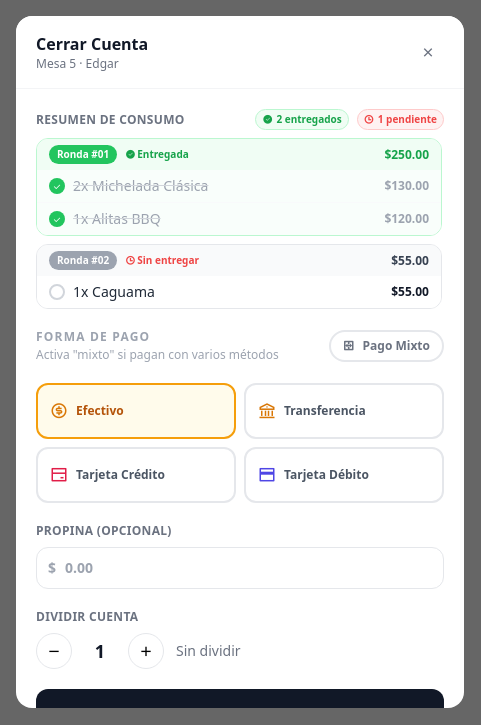
Scenario: CloseAccountModal — Payment Calculations › shows transfer data when transferencia selected
This screenshot has width=481, height=725.
Click the button "Transferencia": (344,411) [244,383,444,439]
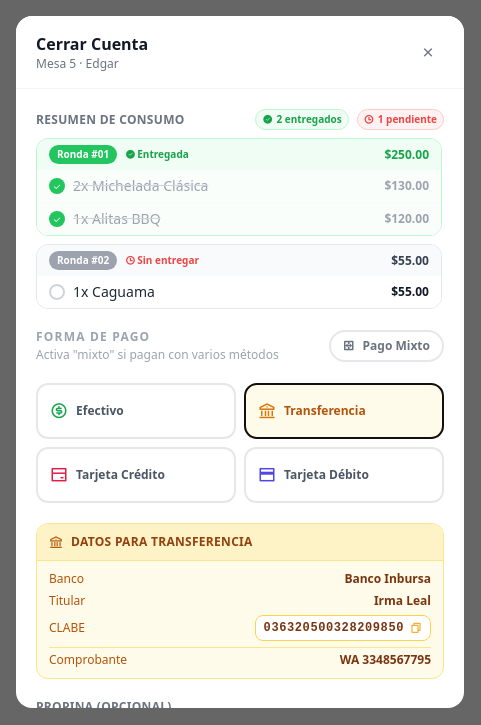
Check: the text "036320500328209850" is shown, box [264,620,404,636]
Check: the text "Irma Leal" is shown, box [374,593,431,609]
